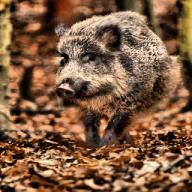boar: (52, 10, 182, 148)
